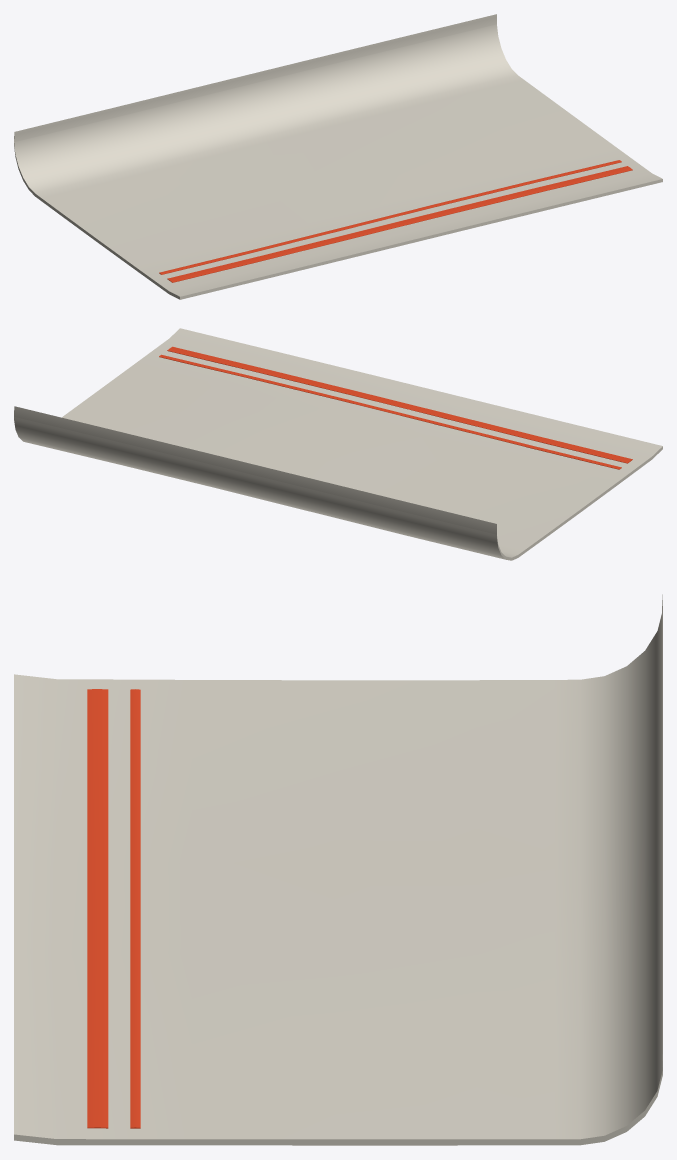
Rendered from Food_WrapPaper.fbx.
The picture shows the model from 3 angles, top to bottom: view 1: azimuth 30°, elevation 25°; view 2: azimuth 150°, elevation 25°; view 3: azimuth 270°, elevation 25°; orthographic projection. The views are drawn at different scales.
Parts seen in each view (by area): view 1: Paper, Stripes; view 2: Paper, Stripes; view 3: Paper, Stripes.
Boxes of the visible parts, <box> form: Paper: <box>14,14,662,299</box>; Stripes: <box>159,160,632,282</box>; Paper: <box>14,328,662,560</box>; Stripes: <box>159,346,632,469</box>; Paper: <box>14,594,662,1145</box>; Stripes: <box>87,689,140,1128</box>.
Size of the model in its own units: 260 by 25.79 by 155.
